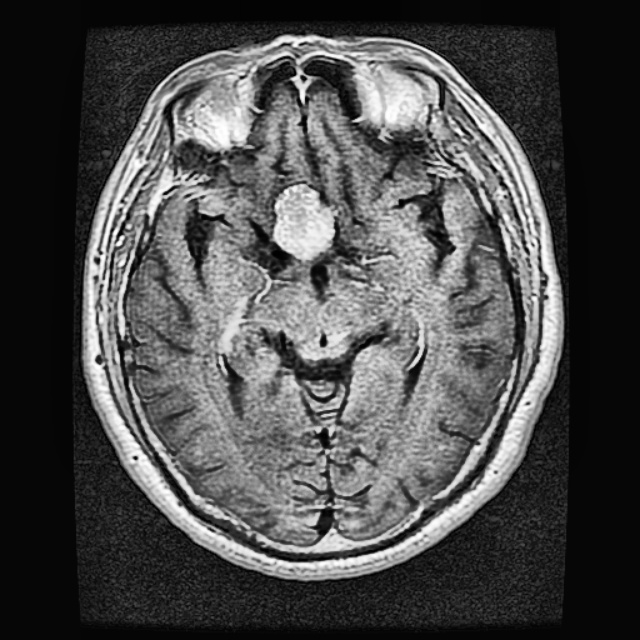Pituitary: (274, 184, 332, 257)
